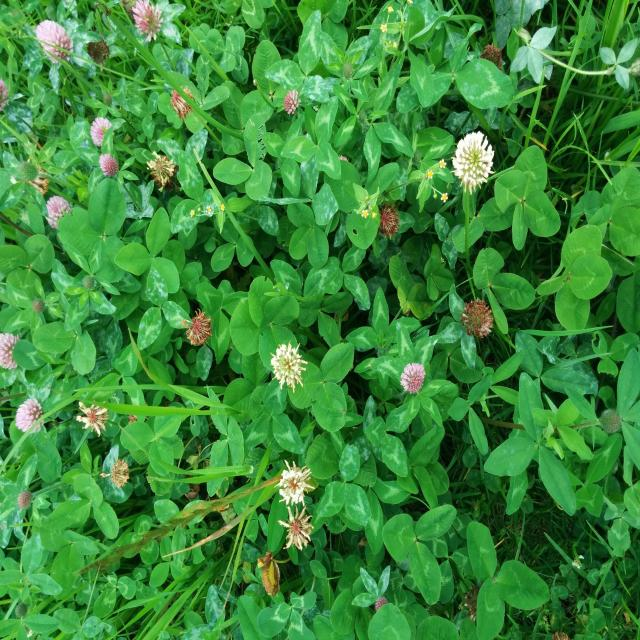Four Leaf Clover: (494, 146, 560, 249)
